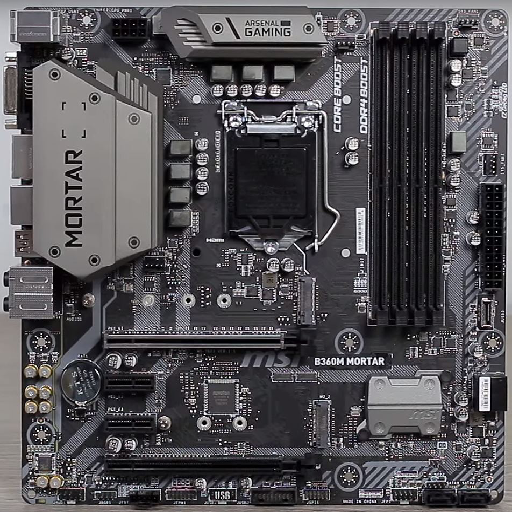CPU: (221, 112, 319, 258)
GPU: (100, 324, 317, 363), (104, 454, 325, 485)
MOTHERBOARD: (5, 5, 508, 507)
RAM: (367, 22, 449, 333)
SSD: (307, 397, 332, 450), (295, 276, 317, 326)
